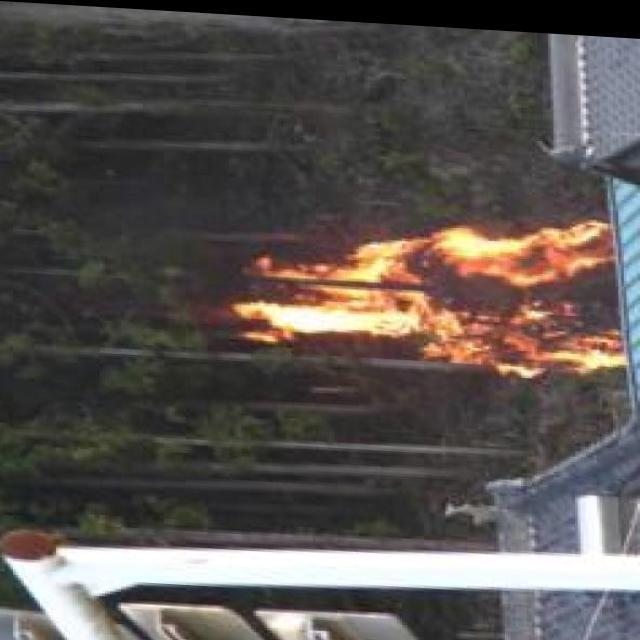fire: (246, 198, 626, 378)
